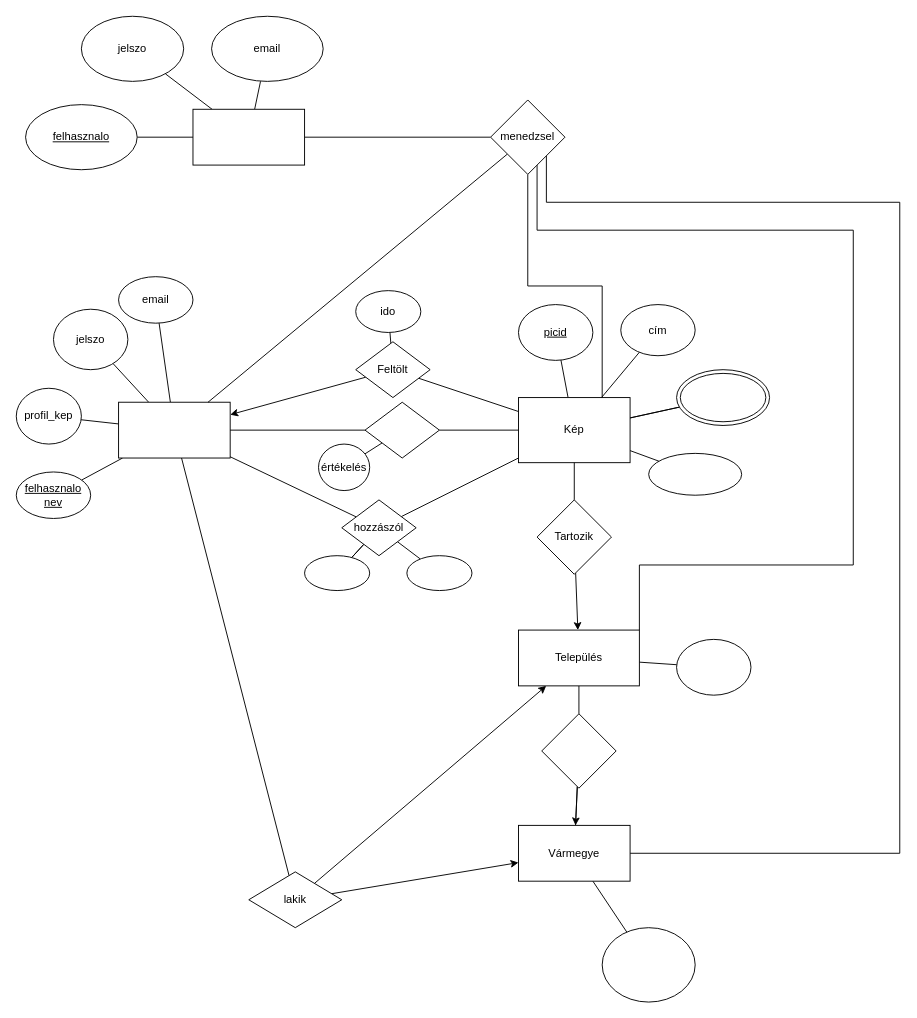
This 917x1018 diagram has some shape labels left out. The shapes that lost their labels are listed below. From the top down, each one's centre as x and y in pixels, then its label:
point 248,136: Admin
point 723,397: címke
point 174,429: Felhasználó
point 401,429: értékel
point 695,473: leírás
point 337,573: idő
point 439,573: szövege
point 713,666: telepules_nev
point 578,750: Helyezkedik
point 648,964: megye_nev
